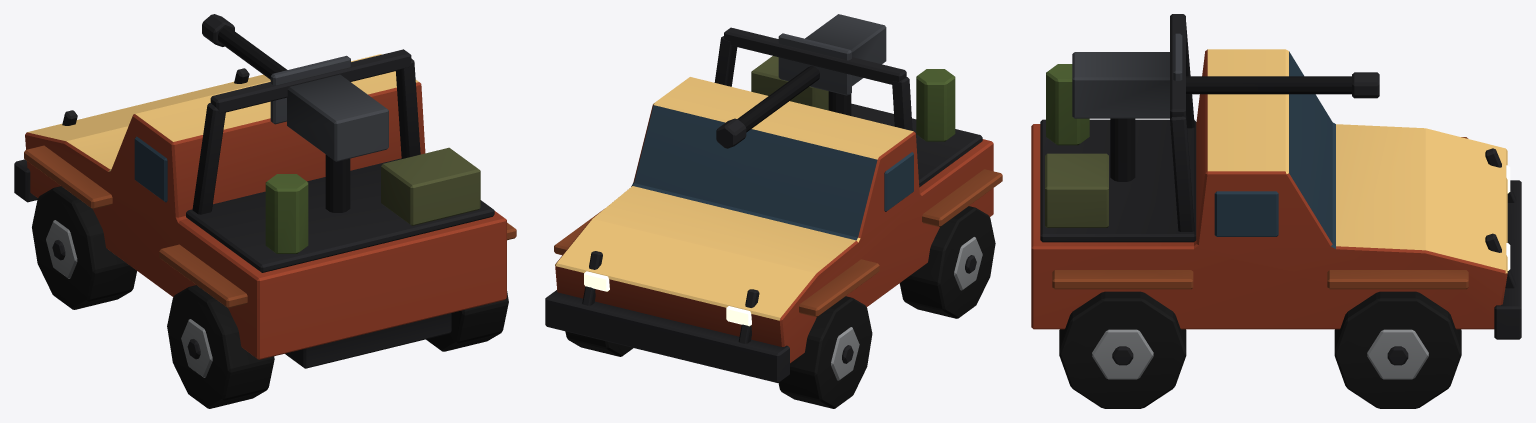
Rendered from raider_technical.glb.
3 views of the same model, side by side, from view 1: azimuth 30°, elevation 25°; view 2: azimuth 150°, elevation 25°; view 3: azimuth 270°, elevation 25° (orthographic). The views are drawn at different scales.
Visible parts, largest first — view 1: raider_technical; view 2: raider_technical; view 3: raider_technical.
Boxes of the visible parts, x1,y1,x2,y2 form: raider_technical: [14, 14, 516, 408]; raider_technical: [545, 14, 1002, 408]; raider_technical: [1031, 14, 1521, 408].
Bounding box in the file's own units: 0.748 × 0.6931 × 1.07.
